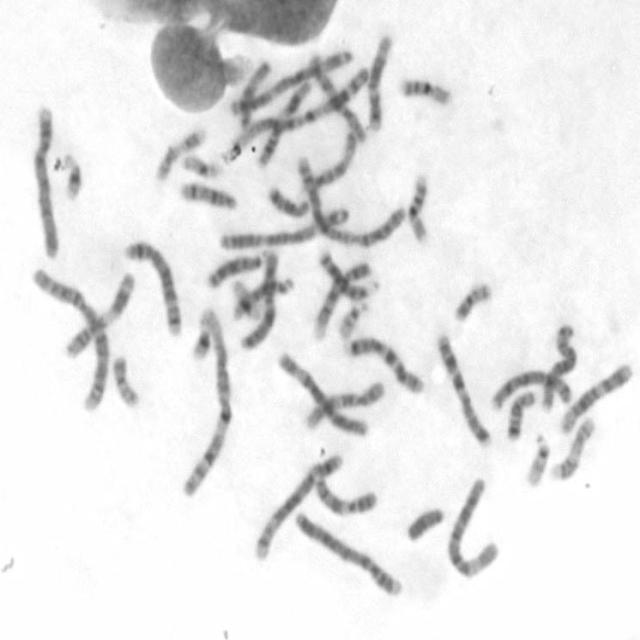A1: (219, 58, 371, 163), (176, 300, 234, 500)
A2: (26, 263, 110, 414), (295, 152, 408, 252)
A3: (225, 44, 353, 118), (215, 203, 352, 251)
B4: (291, 506, 403, 599), (30, 100, 62, 260)
B5: (252, 448, 344, 562), (122, 236, 184, 338)
C10: (304, 49, 369, 144), (300, 378, 387, 432)
C11: (60, 266, 138, 361), (255, 77, 314, 170)
C12: (556, 359, 635, 436), (364, 28, 394, 132)
C6: (274, 347, 370, 437), (444, 473, 501, 580)
C7: (432, 328, 493, 449), (342, 331, 428, 396)
C8: (486, 366, 576, 412), (536, 318, 579, 413)
C9: (310, 257, 372, 342), (311, 471, 378, 516)
D13: (316, 247, 378, 301), (203, 248, 267, 291)
D14: (230, 271, 295, 322), (176, 177, 238, 212)
D15: (307, 130, 359, 192), (235, 56, 272, 128)
E16: (394, 73, 454, 109), (403, 170, 431, 244)
E17: (547, 412, 597, 483), (151, 122, 208, 181)
E18: (504, 386, 537, 444), (265, 182, 312, 221)
F19: (228, 274, 264, 322), (180, 150, 222, 180)
F20: (450, 278, 494, 324), (109, 350, 141, 410)
G21: (58, 148, 84, 202), (187, 320, 213, 362)
G22: (522, 429, 550, 489), (335, 299, 368, 340)
X: (237, 244, 280, 352)
Y: (403, 503, 446, 543)
